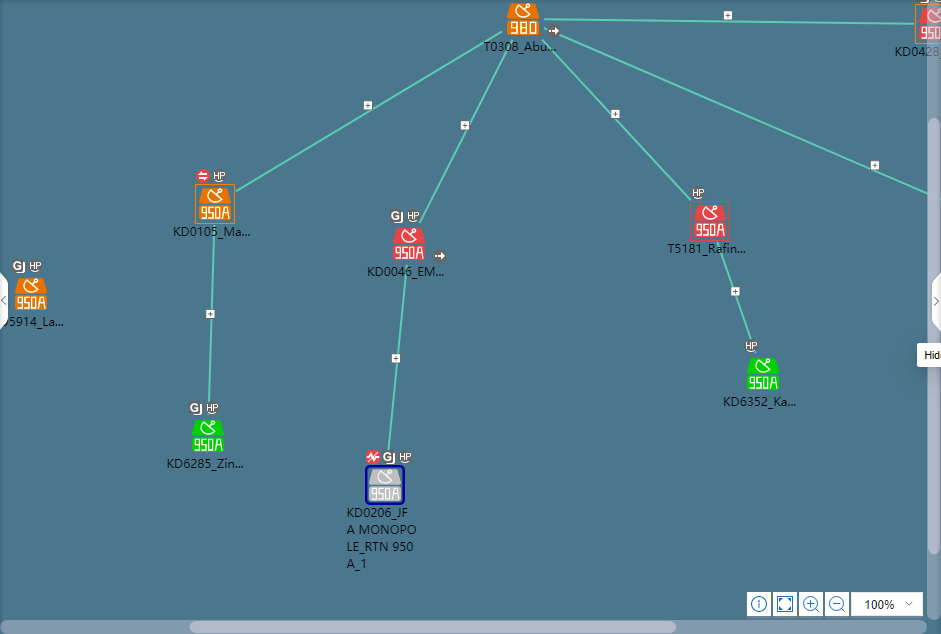Link_Blue: (543, 26, 928, 196), (235, 30, 502, 193), (541, 39, 691, 201), (418, 39, 514, 224), (715, 242, 758, 354), (386, 265, 408, 451), (544, 17, 912, 25), (208, 225, 215, 403)
RTN_Gray: (365, 468, 403, 505)
RTN_Green: (192, 421, 223, 452), (747, 359, 777, 390)
RTN_Orange: (197, 188, 231, 222), (15, 278, 46, 310), (506, 3, 538, 34)
RTN_Red: (694, 204, 725, 238), (393, 228, 424, 260), (916, 7, 940, 42)
